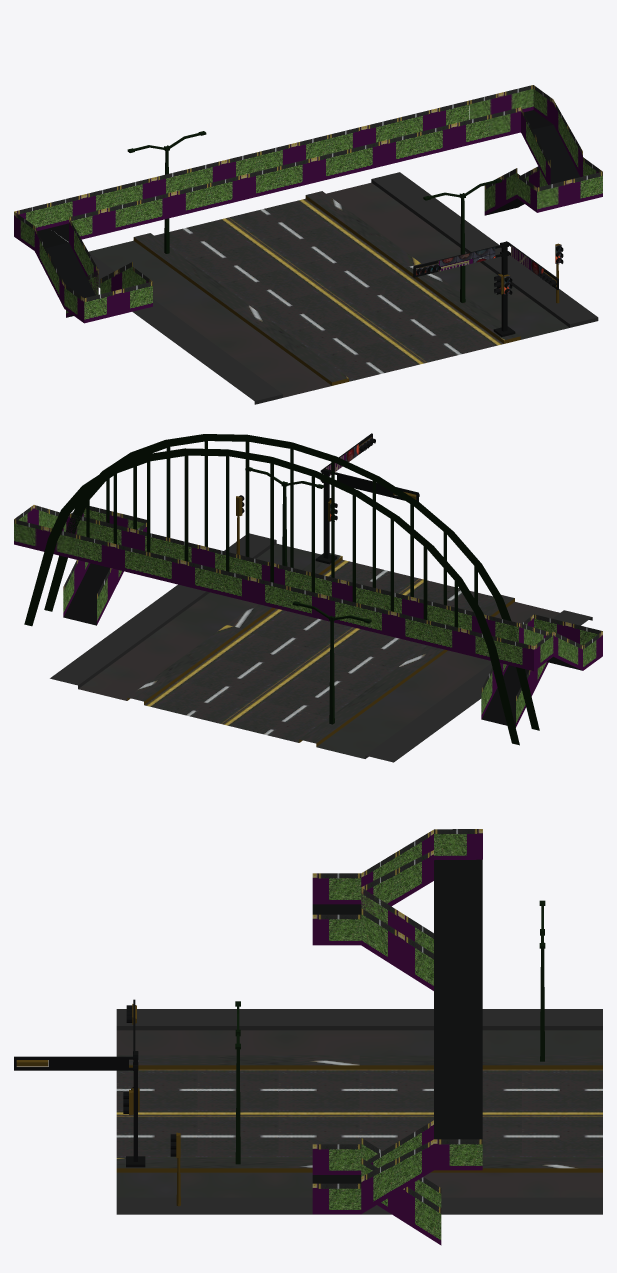
Rendered from city_bridge.obj.
The picture shows the model from 3 angles, top to bottom: view 1: azimuth 30°, elevation 25°; view 2: azimuth 150°, elevation 25°; view 3: azimuth 270°, elevation 25°; orthographic projection. The views are drawn at different scales.
Visible parts, largest first — view 1: city_bridge_Plane.013; view 2: city_bridge_Plane.013; view 3: city_bridge_Plane.013.
Boxes of the visible parts, x1,y1,x2,y2 form: city_bridge_Plane.013: [14, 85, 602, 404]; city_bridge_Plane.013: [14, 433, 602, 762]; city_bridge_Plane.013: [14, 829, 602, 1245].
Bounding box in the file's own units: 2.42 × 1.03 × 1.94.
